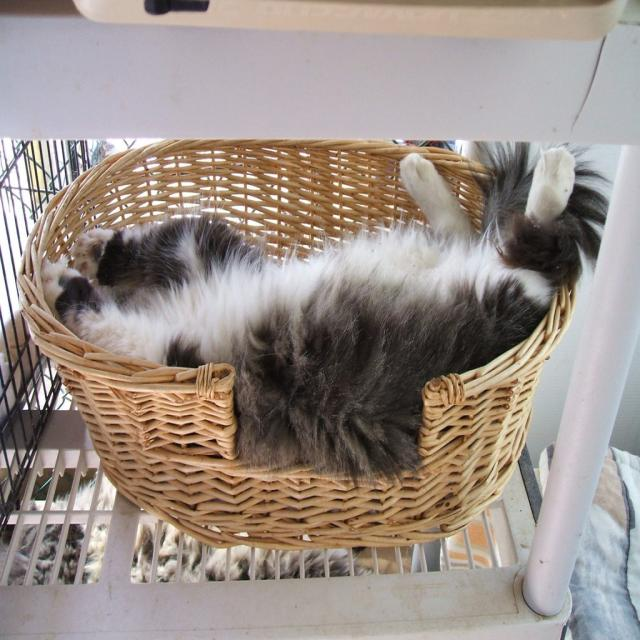Cat: (41, 130, 614, 491)
